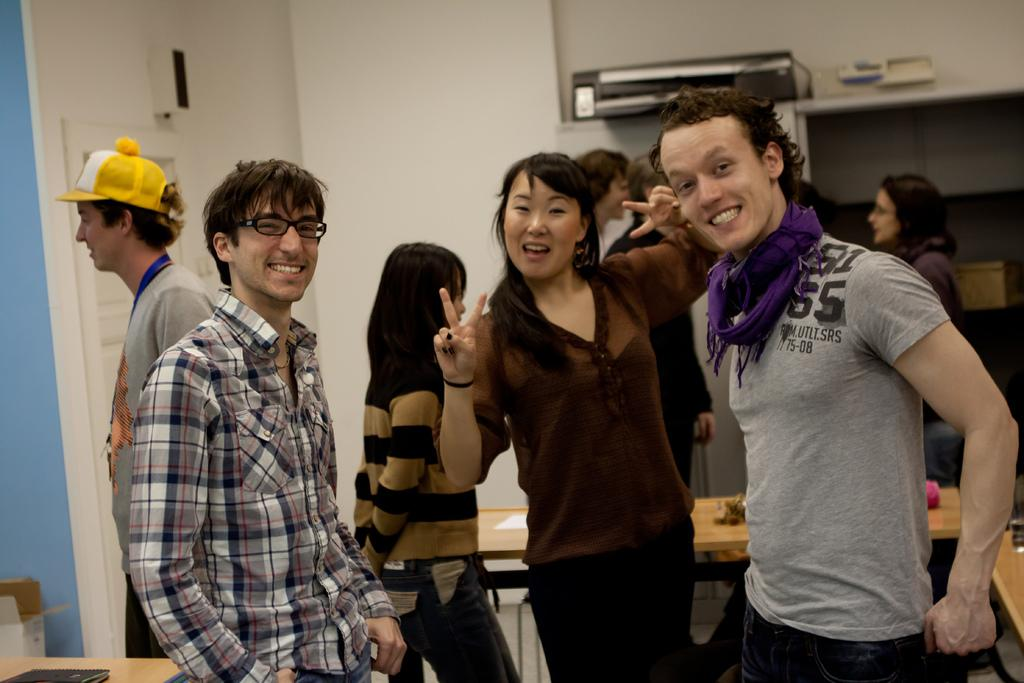Hat: (57, 136, 172, 216)
